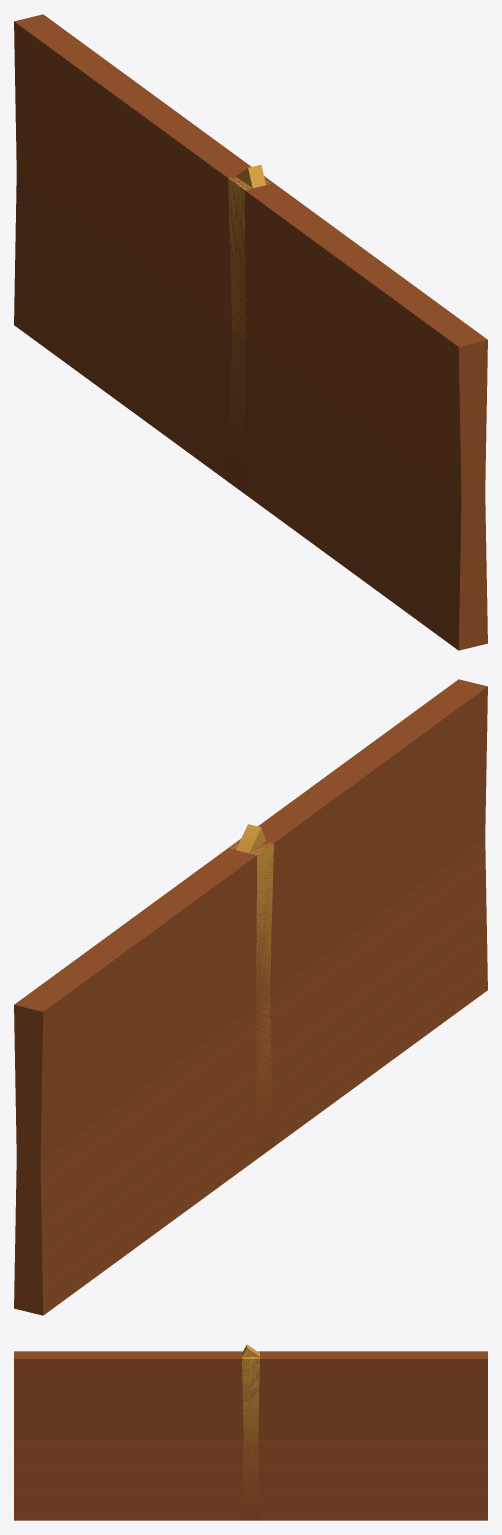
Rendered from Wood.fbx.
3 renders of one model, top to bottom at view 1: azimuth 30°, elevation 25°; view 2: azimuth 150°, elevation 25°; view 3: azimuth 270°, elevation 25°, orthographic. The views are drawn at different scales.
Visible parts, largest first — view 1: Wood; view 2: Wood; view 3: Wood.
Boxes of the visible parts, x1,y1,x2,y2 form: Wood: [14, 14, 487, 650]; Wood: [14, 679, 487, 1315]; Wood: [14, 1344, 487, 1520].
Bounding box in the file's own units: 10.08 × 106 × 265.
